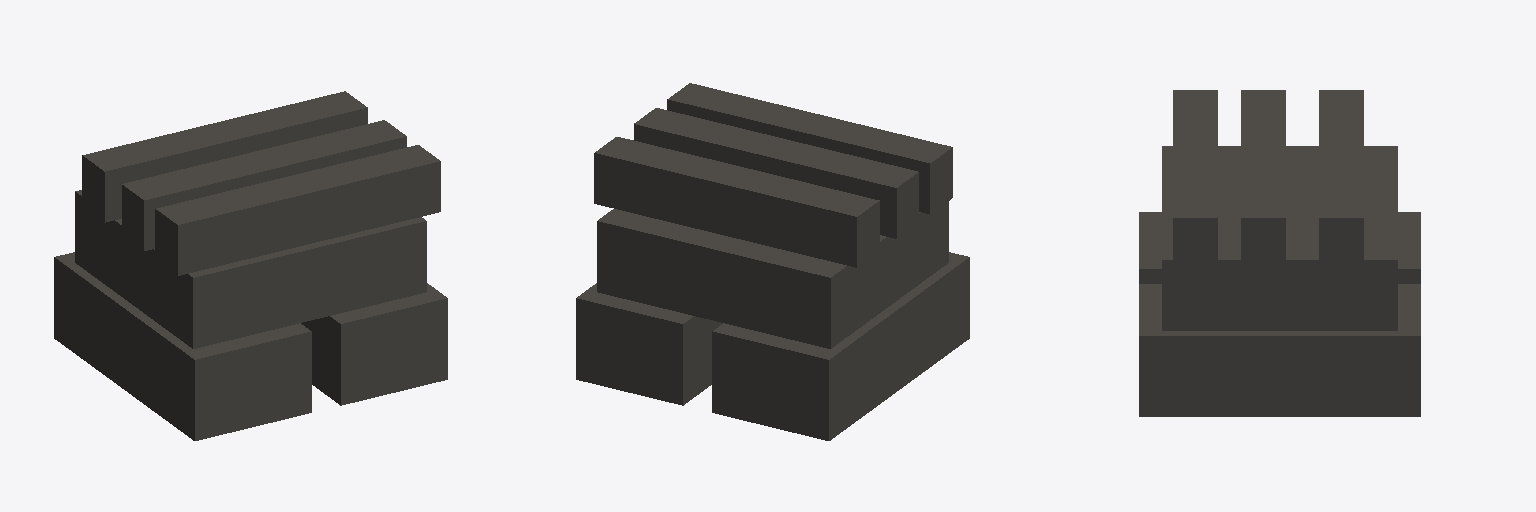
The picture shows the model from 3 angles: view 1: azimuth 30°, elevation 25°; view 2: azimuth 150°, elevation 25°; view 3: azimuth 270°, elevation 25°; orthographic projection.
Parts seen in each view (by area): view 1: object 1; view 2: object 1; view 3: object 1.
Boxes of the visible parts, <box> form: object 1: <box>54,91,447,440</box>; object 1: <box>576,83,969,440</box>; object 1: <box>1139,90,1420,416</box>.
Bounding box in the file's own units: 2.7 × 2 × 2.5.
Materials: 1 (1 with a texture image).